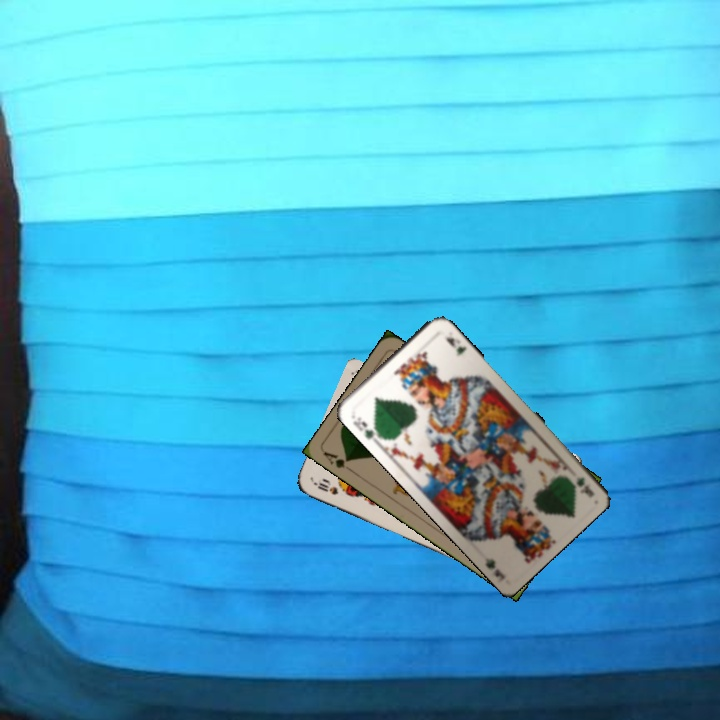GA: (320, 447, 356, 475)
GK: (349, 413, 383, 442), (572, 472, 597, 500)
S10: (309, 478, 341, 497)
